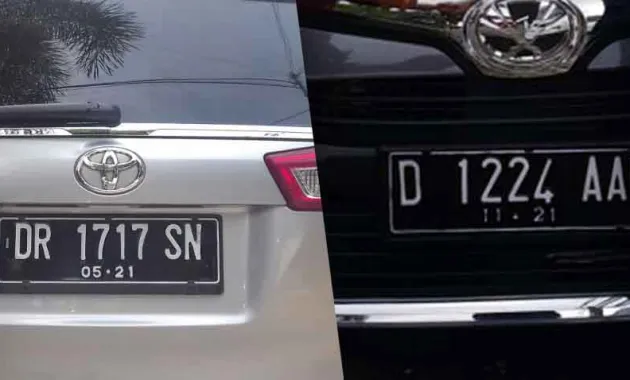plate: (394, 155, 630, 227), (8, 218, 217, 285)
